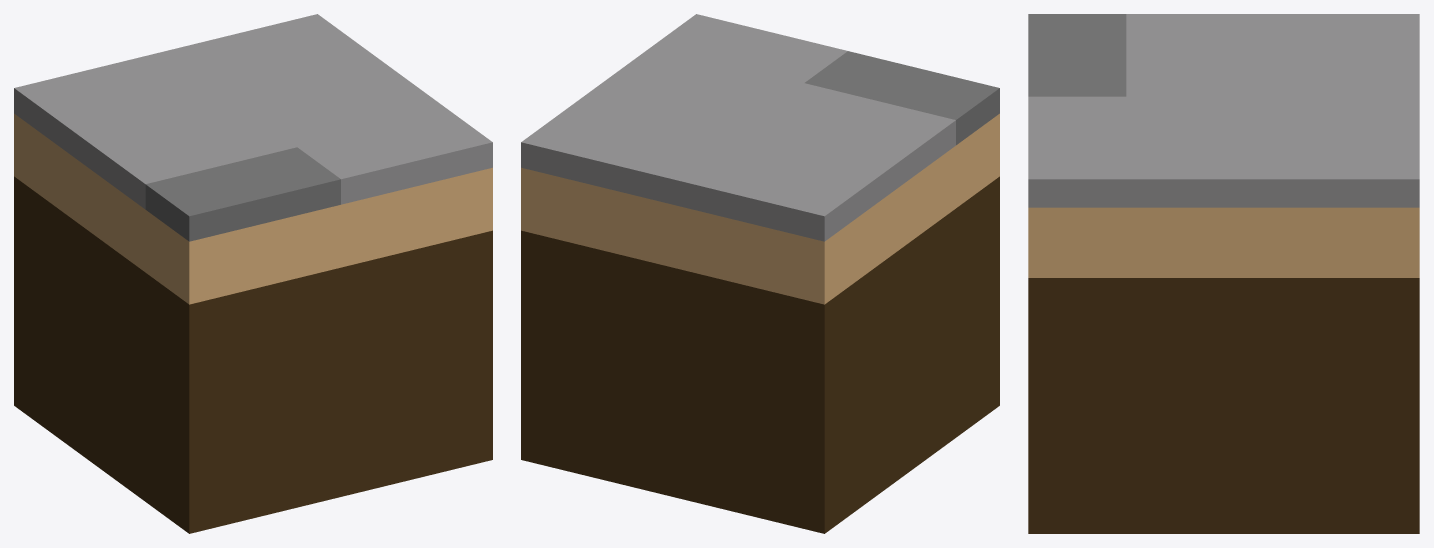
The model's file is floor_1.fbx.
3 views of the same model, side by side, from view 1: azimuth 30°, elevation 25°; view 2: azimuth 150°, elevation 25°; view 3: azimuth 270°, elevation 25° (orthographic). The views are drawn at different scales.
Visible parts, largest first — view 1: Floor.003; view 2: Floor.003; view 3: Floor.003.
Boxes of the visible parts, bbox=[...] form: Floor.003: bbox=[14, 14, 492, 533]; Floor.003: bbox=[521, 14, 999, 533]; Floor.003: bbox=[1028, 14, 1419, 533].
Bounding box in the file's own units: 1 × 1 × 1.
